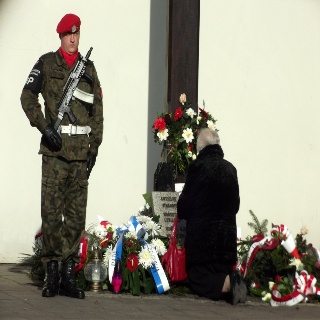rifle: (52, 47, 94, 137)
